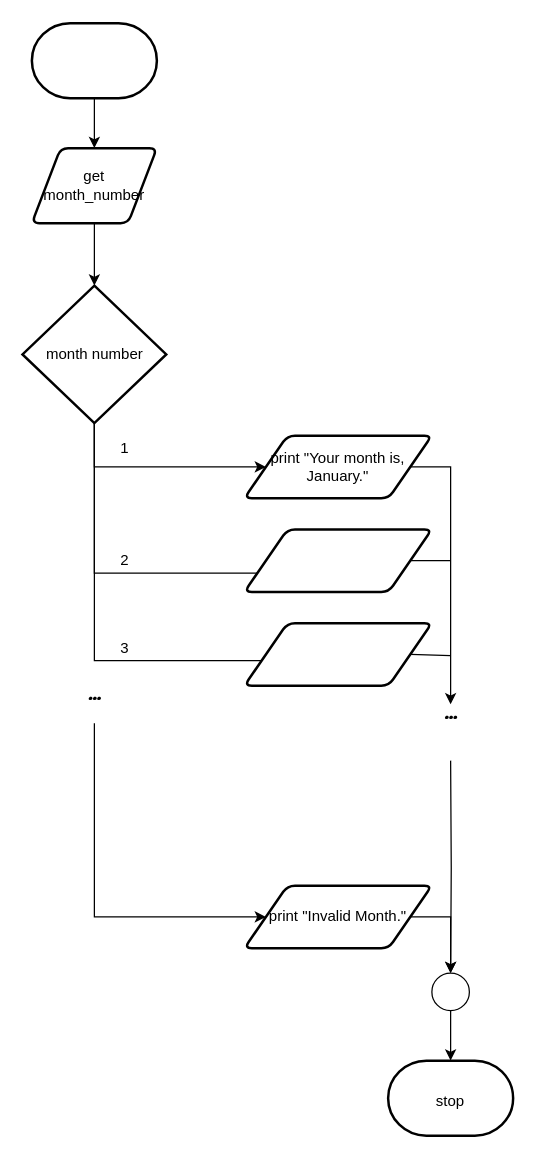
This 536x1158 diagram has some shape labels left out. Each missing label, with the box of its shape:
print "Your month is, February.": (242, 528, 432, 592)
print "Your month is, March.": (242, 621, 432, 686)
start: (30, 21, 158, 99)
